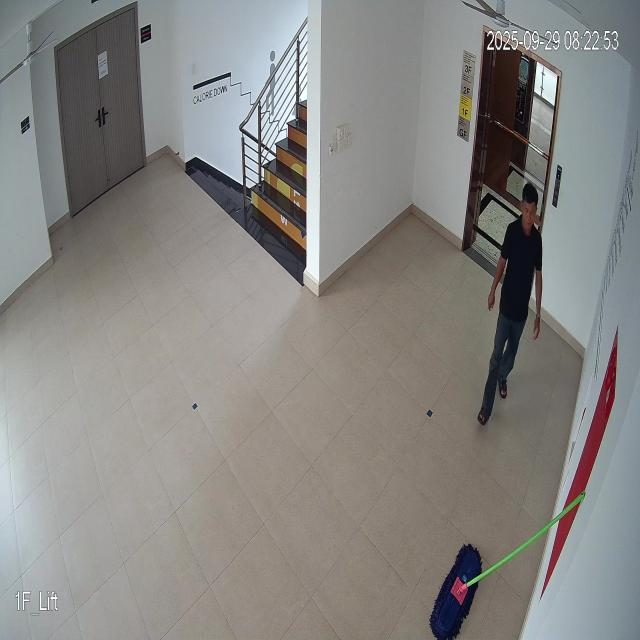face: (518, 180, 541, 237)
